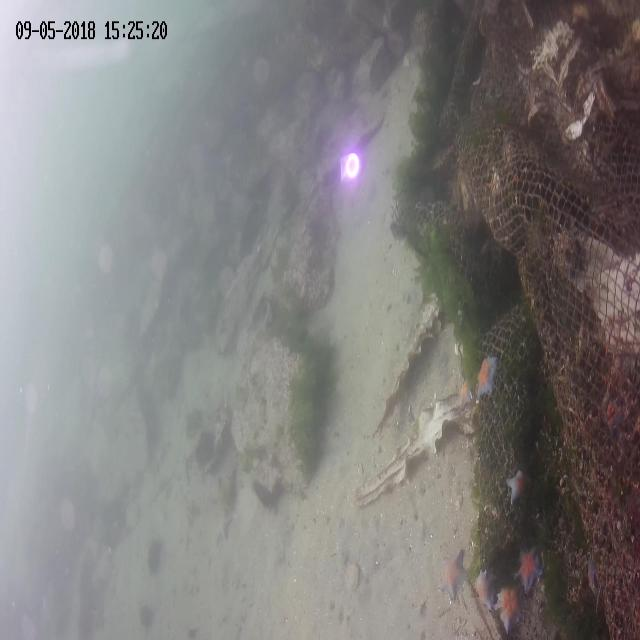echinus: (192, 431, 215, 465), (146, 541, 162, 570)
scallop: (342, 563, 360, 589)
starfish: (494, 585, 522, 629), (440, 552, 467, 594), (505, 464, 532, 506), (516, 546, 542, 588), (476, 354, 497, 399), (473, 570, 494, 612), (454, 381, 472, 407)
